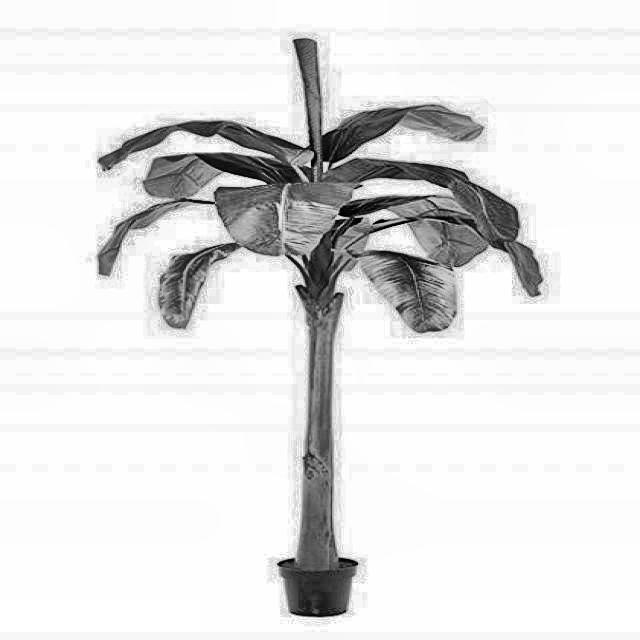plants: (90, 38, 547, 618), (347, 253, 490, 345), (149, 224, 253, 326)
